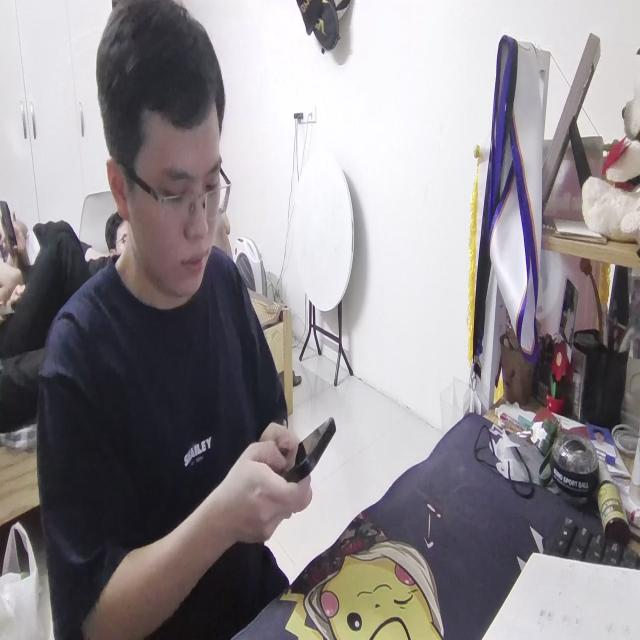book: (463, 542, 640, 640)
phone: (276, 415, 338, 479)
student: (37, 0, 313, 636)
